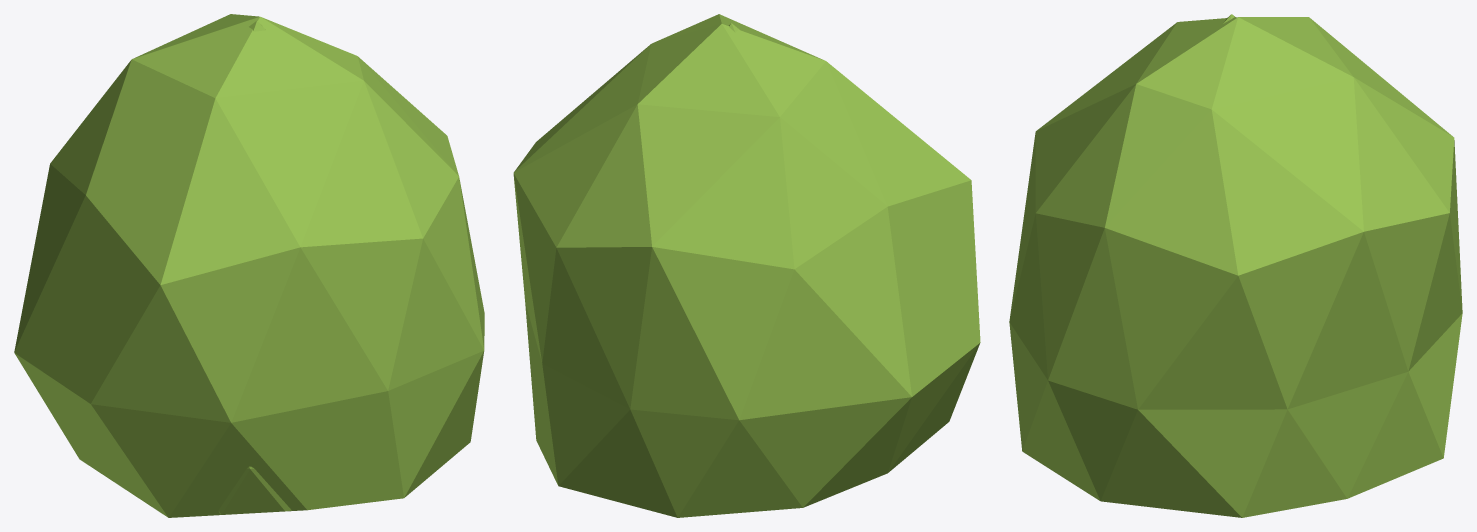
The model's file is Bushes.fbx.
3 renders of one model, left to right at view 1: azimuth 30°, elevation 25°; view 2: azimuth 150°, elevation 25°; view 3: azimuth 270°, elevation 25°, orthographic.
Visible parts, largest first — view 1: Bushes_6, Bushes_1; view 2: Bushes_6; view 3: Bushes_6.
Part boxes in pixels (bbox=[...]): Bushes_6: bbox=[14, 14, 484, 517]; Bushes_1: bbox=[218, 466, 291, 514]; Bushes_6: bbox=[513, 14, 980, 517]; Bushes_6: bbox=[1009, 17, 1462, 517].
Size of the model in its own units: 297 by 291 by 285.
